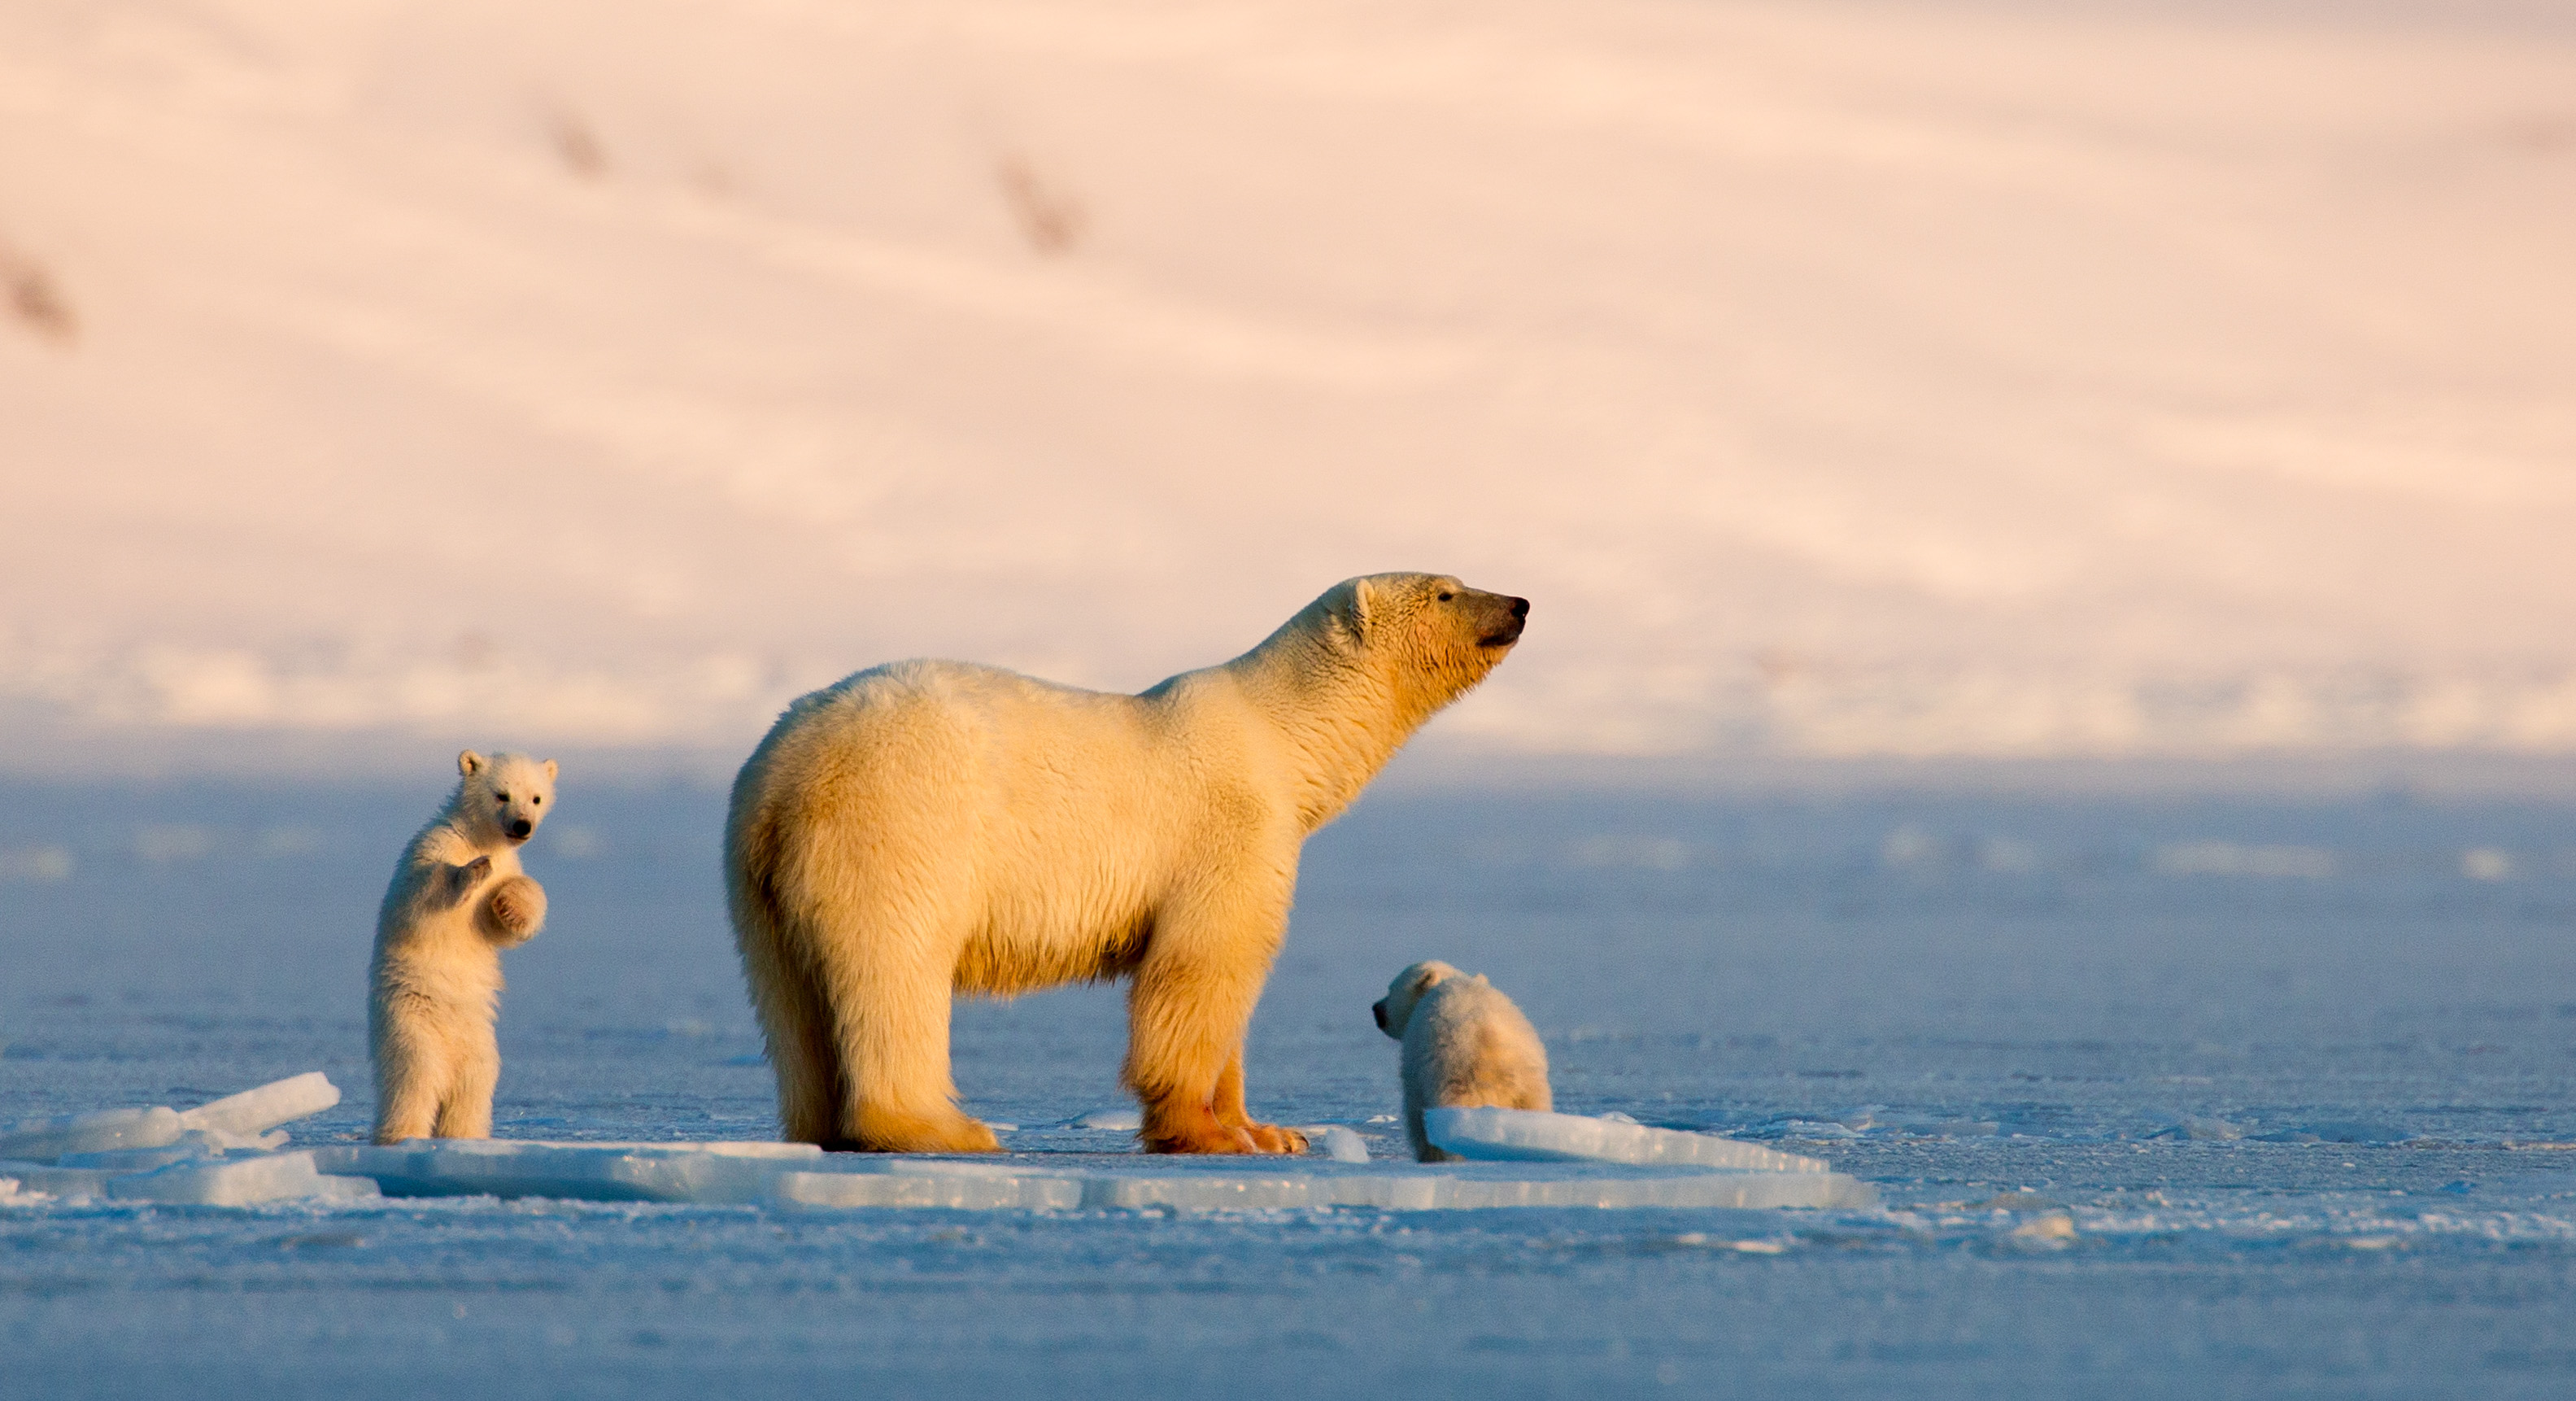PolarBear: (693, 480, 1562, 1204)
